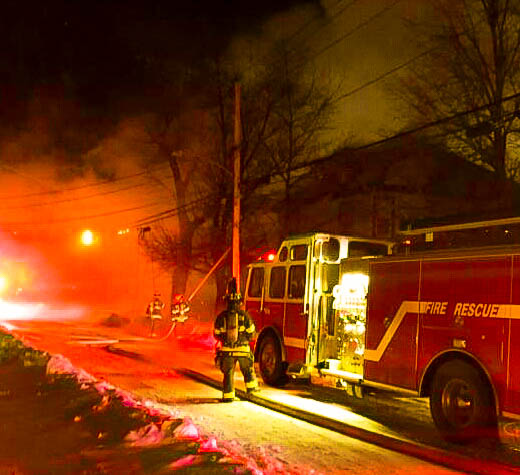Fire: (2, 246, 43, 322)
